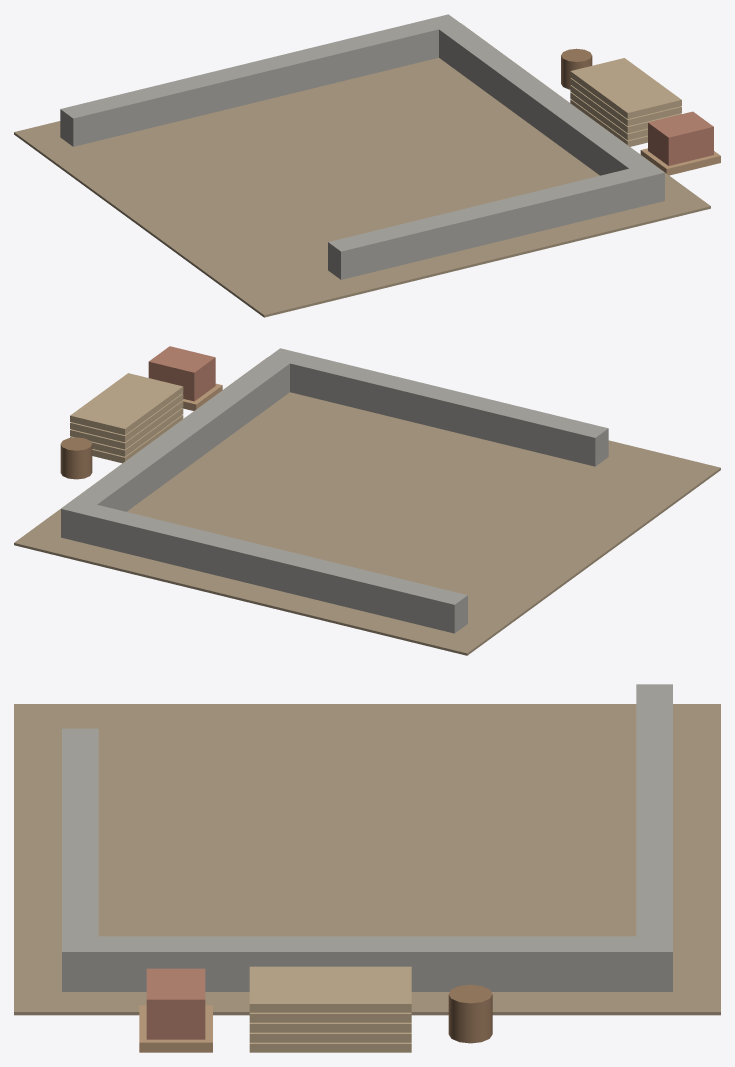
The model's file is barn_site_2.glb.
3 views of the same model, one above another, from view 1: azimuth 30°, elevation 25°; view 2: azimuth 150°, elevation 25°; view 3: azimuth 270°, elevation 25° (orthographic). The views are drawn at different scales.
Parts seen in each view (by area): view 1: body; view 2: body; view 3: body.
Boxes of the visible parts, x1=… form: body: x1=14, y1=14, x2=720, y2=317; body: x1=14, y1=346, x2=720, y2=655; body: x1=14, y1=684, x2=720, y2=1052.
Size of the model in its own units: 2.22 by 0.15 by 1.92.
